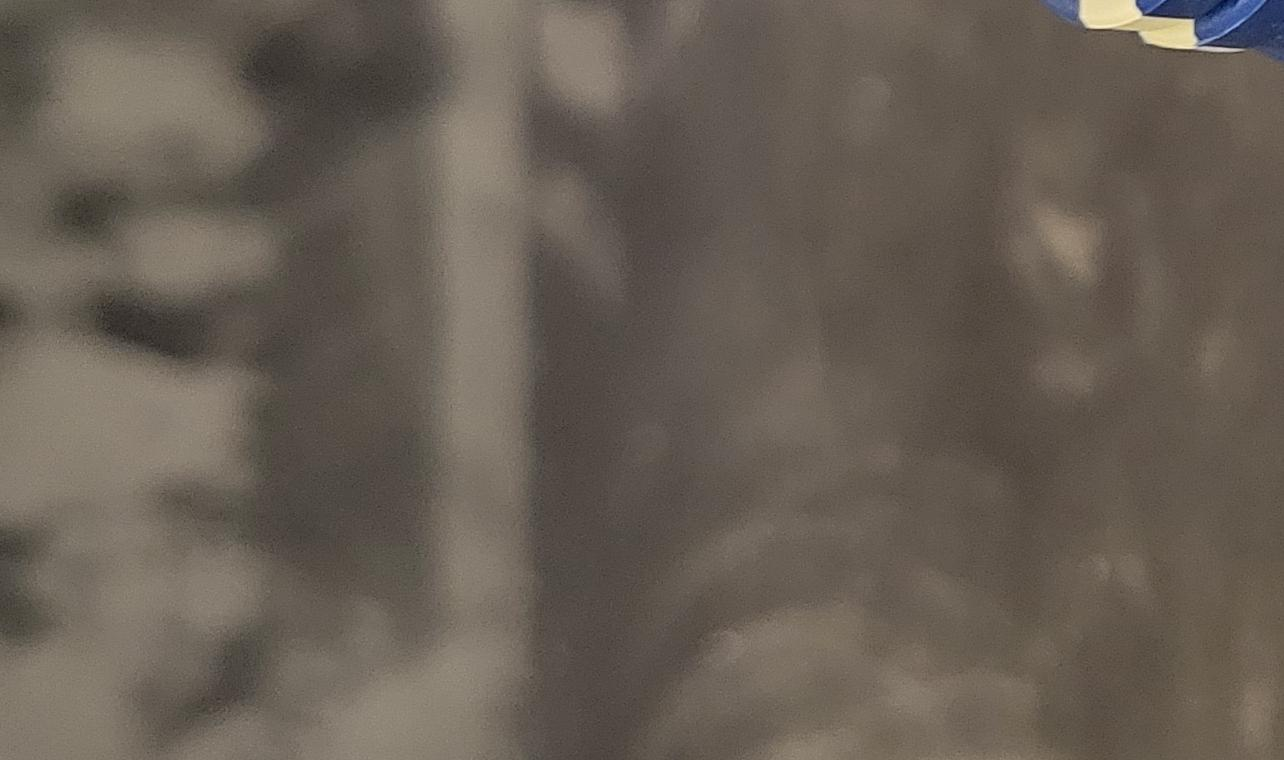Chip: (1, 497, 847, 760)
